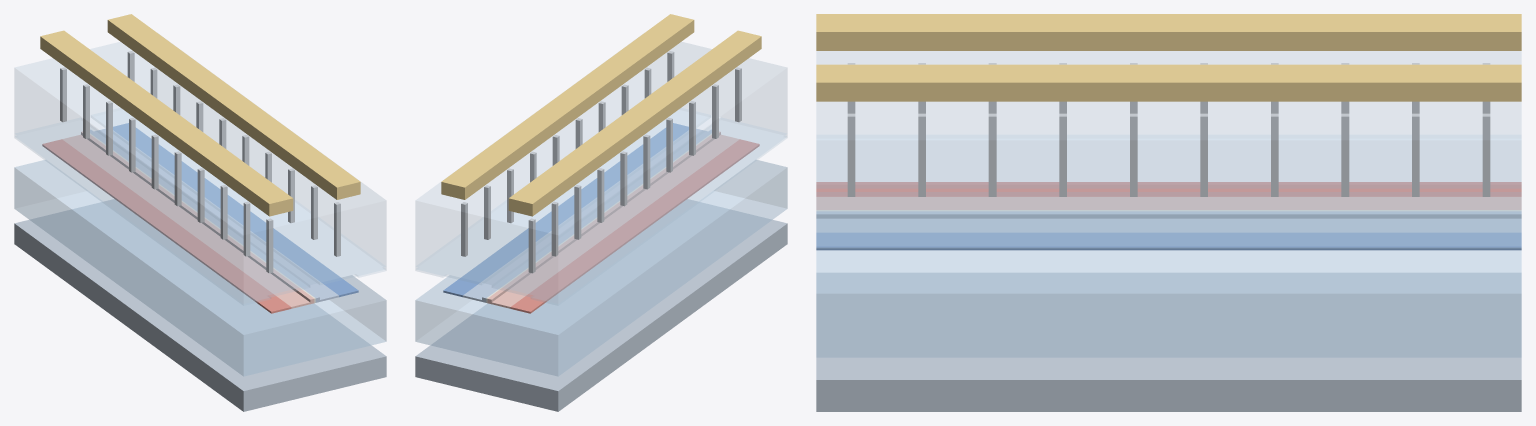
File: stack-pn-x.glb
3 renders of one model, left to right at view 1: azimuth 30°, elevation 25°; view 2: azimuth 150°, elevation 25°; view 3: azimuth 270°, elevation 25°, orthographic. The views are drawn at different scales.
Parts seen in each view (by area): view 1: cladx, sisub, box, metal1, wplug, pdop, pp, nn, ndop; view 2: cladx, sisub, box, metal1, wplug, pdop, pp, nn, ndop; view 3: cladx, sisub, box, metal1, ndop, nn, pp, pdop, wplug, dep.
Boxes of the visible parts, x1,y1,x2,y2 form: cladx: (14, 42, 386, 305); sisub: (14, 199, 386, 411); box: (14, 160, 386, 376); metal1: (40, 14, 360, 216); wplug: (60, 51, 340, 273); pdop: (62, 131, 314, 308); pp: (42, 139, 291, 313); nn: (113, 123, 358, 297); ndop: (90, 128, 338, 302); cladx: (415, 42, 787, 305); sisub: (415, 199, 787, 411); box: (415, 160, 787, 376); metal1: (441, 14, 761, 216); wplug: (461, 51, 741, 273); pdop: (487, 131, 739, 308); pp: (510, 139, 759, 313); nn: (443, 123, 688, 297); ndop: (463, 128, 711, 302); cladx: (816, 51, 1521, 248); sisub: (816, 272, 1521, 411); box: (816, 250, 1521, 357); metal1: (816, 14, 1521, 101); ndop: (816, 211, 1521, 232); nn: (816, 232, 1521, 250); pp: (816, 182, 1521, 196); pdop: (816, 197, 1521, 209); wplug: (847, 63, 1490, 196); dep: (816, 210, 1521, 211).
Bounding box in the file's own units: 7.2 × 9.7 × 20.
